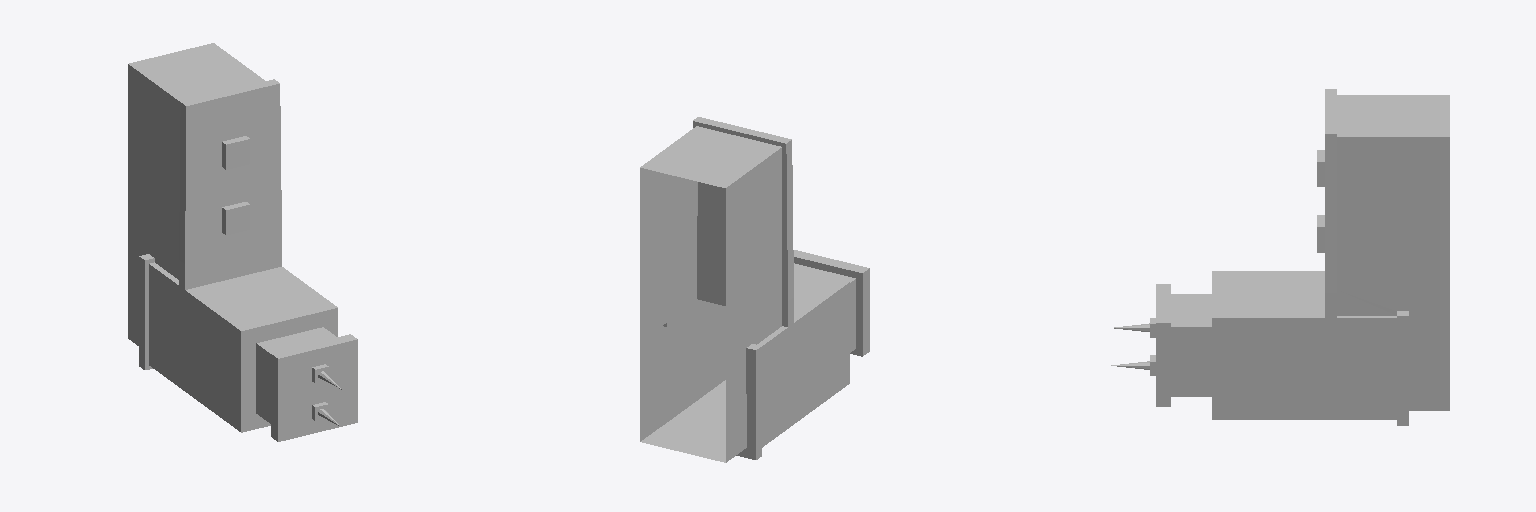
Rendered from tower25.obj.
3 views of the same model, side by side, from view 1: azimuth 30°, elevation 25°; view 2: azimuth 150°, elevation 25°; view 3: azimuth 270°, elevation 25° (orthographic).
Parts seen in each view (by area): view 1: tower25; view 2: tower25; view 3: tower25.
Part boxes in pixels (x1,y1,x2,y2): tower25: (128, 43, 357, 441); tower25: (640, 117, 869, 462); tower25: (1111, 89, 1449, 425).
Bounding box in the file's own units: 10.84 × 28.46 × 30.4.